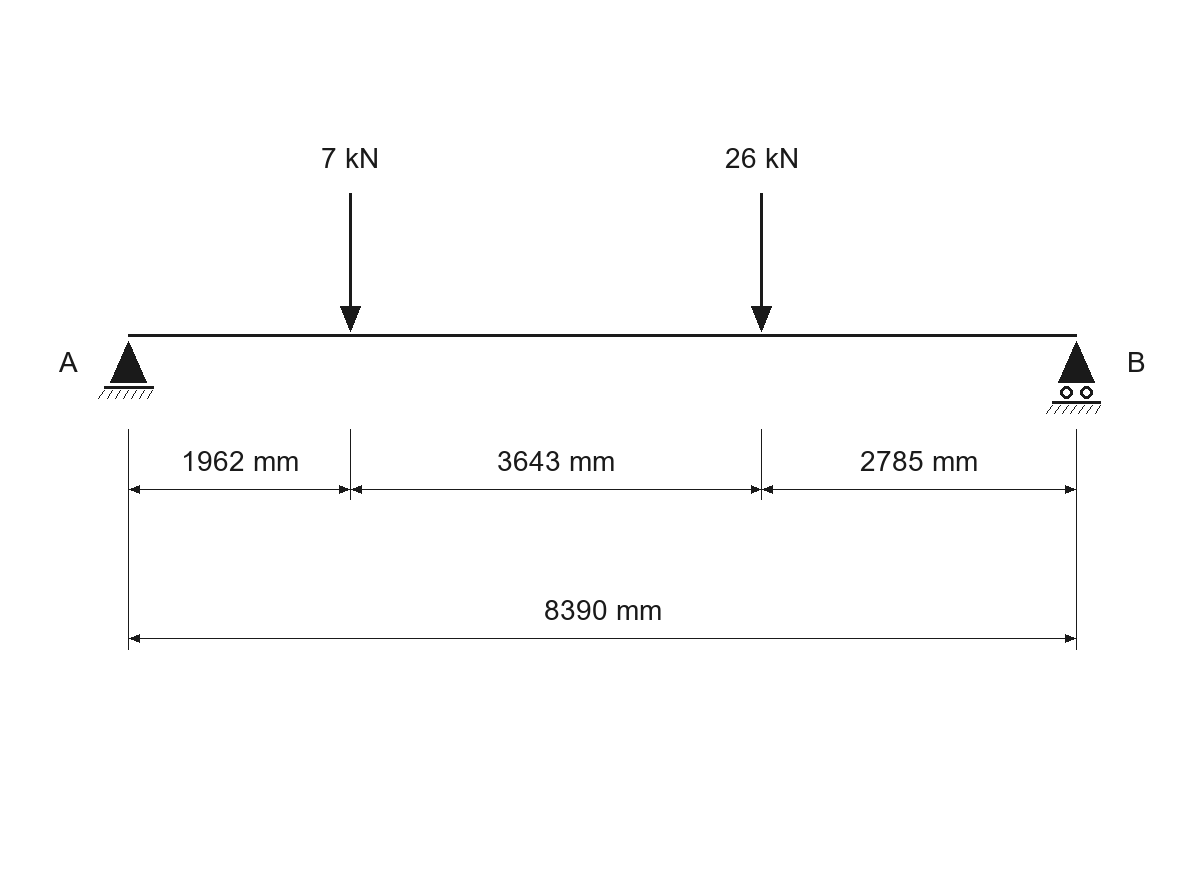pin_support: (98, 341, 154, 399)
point_load: (340, 193, 361, 332), (751, 193, 772, 332)
roller_support: (1046, 341, 1101, 414)
